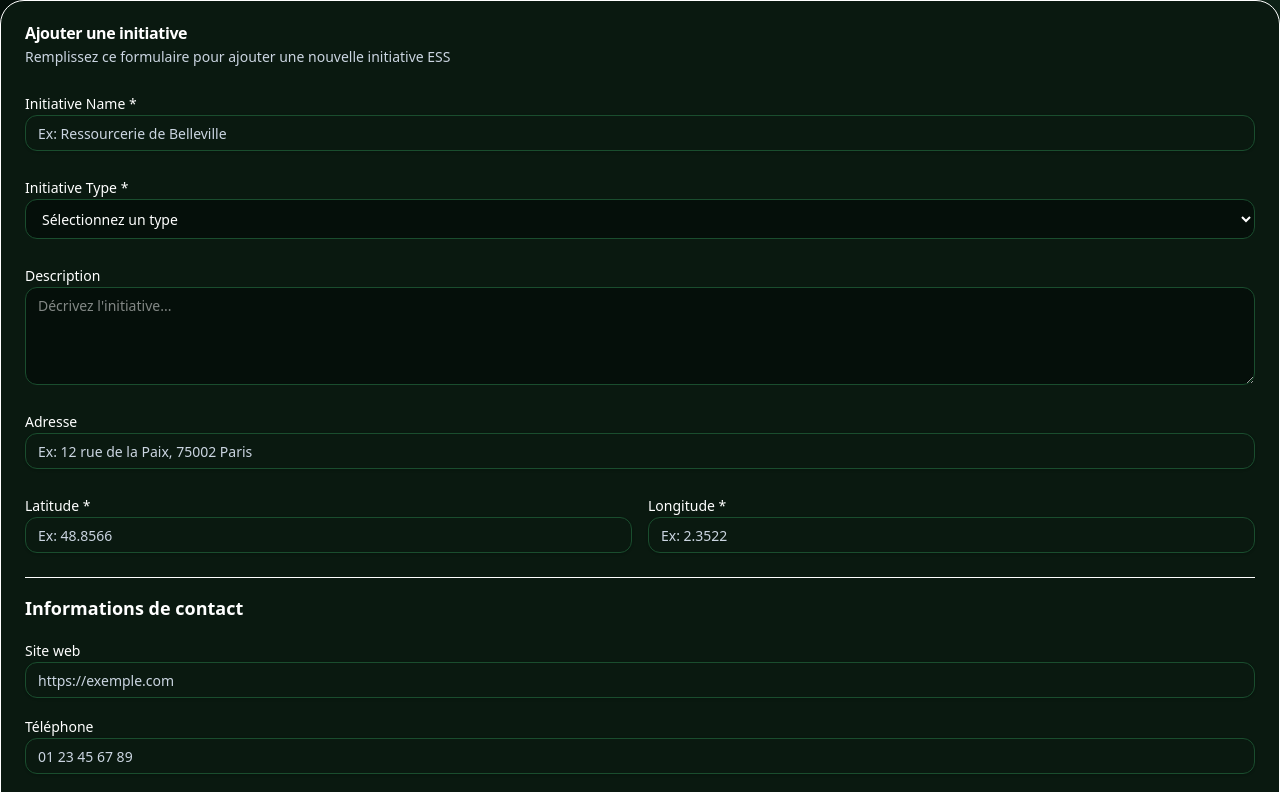
AddInitiativeForm › should display error message on submission failure
This screenshot has width=1280, height=792.
Note: Fill in required fields
Type "Test AMAP" into the field labelled "Initiative Name *" at (640, 133), box left=25, top=115, right=1255, bottom=151
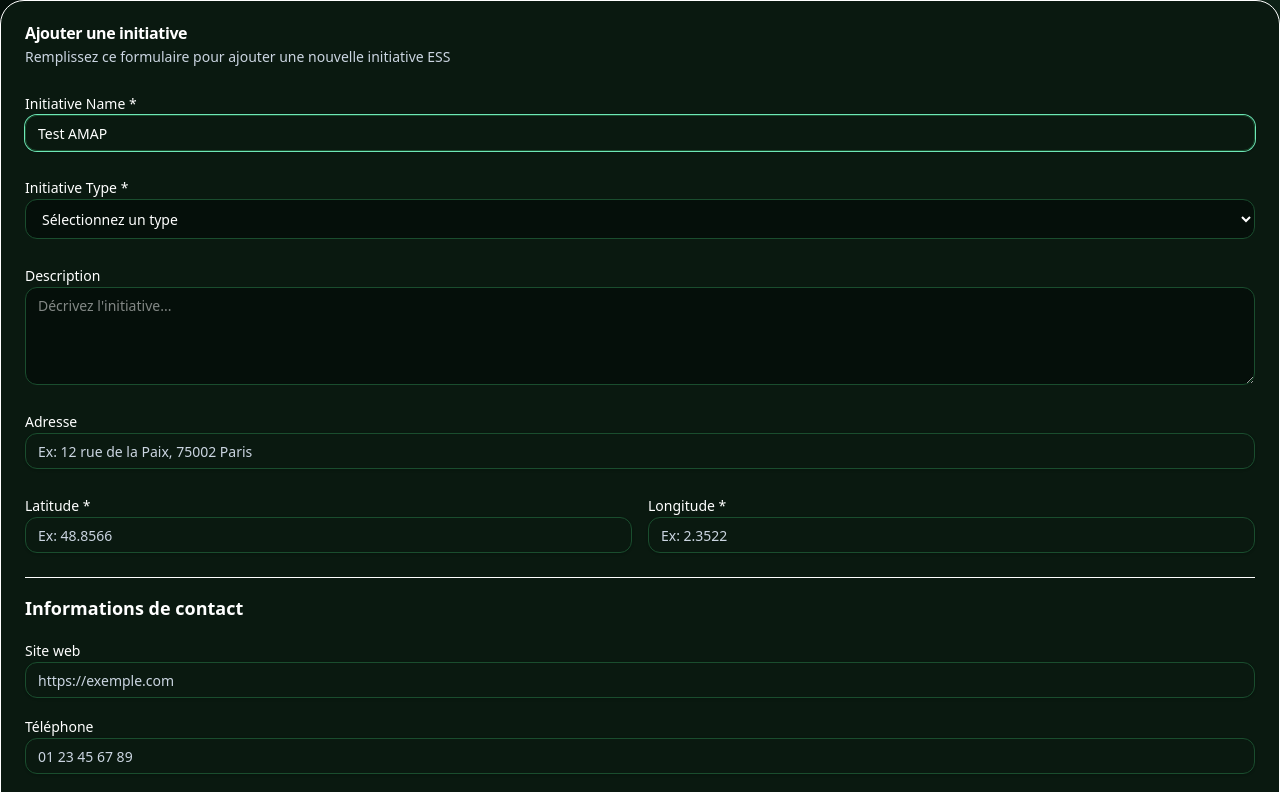
Select "AMAP" in the dropdown labelled "Initiative Type *" at (640, 219), box left=25, top=199, right=1255, bottom=239
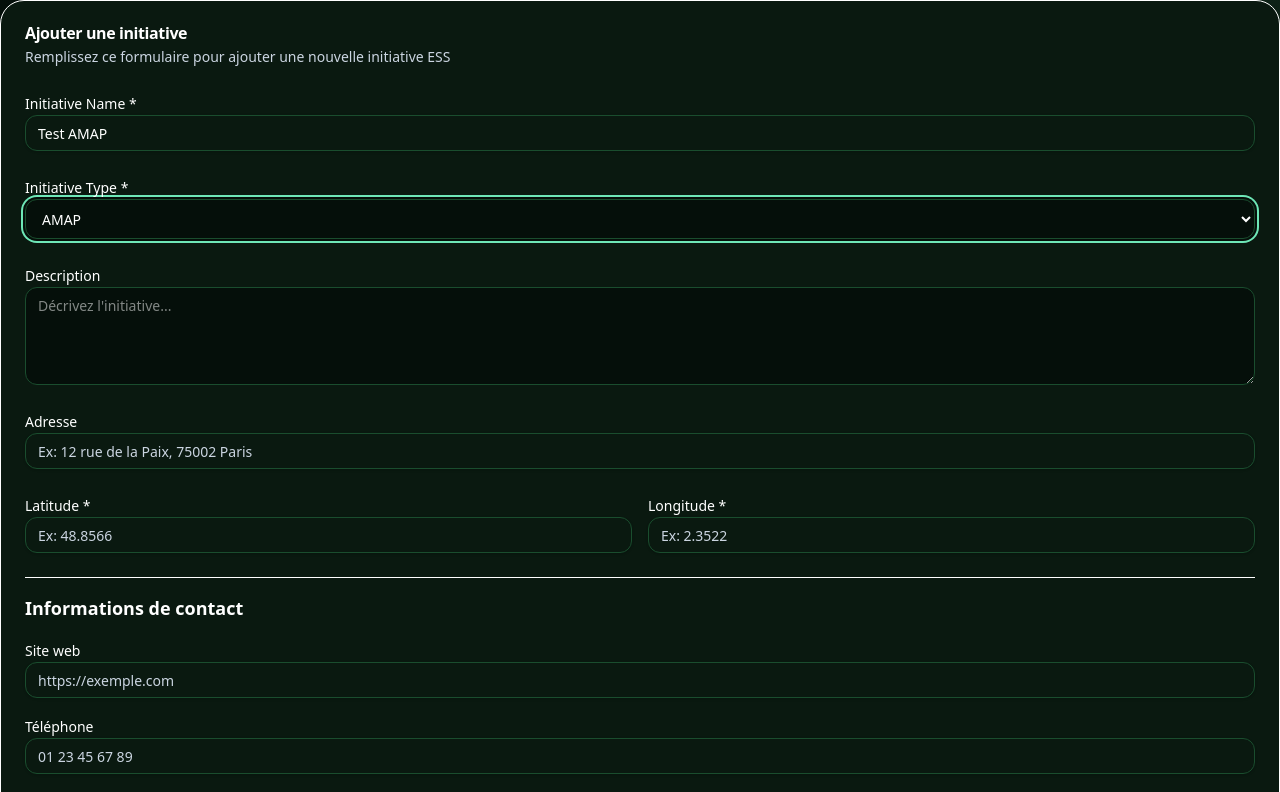
Type "48.8566" into the number field labelled "Latitude *" at (328, 535), box left=25, top=517, right=632, bottom=553
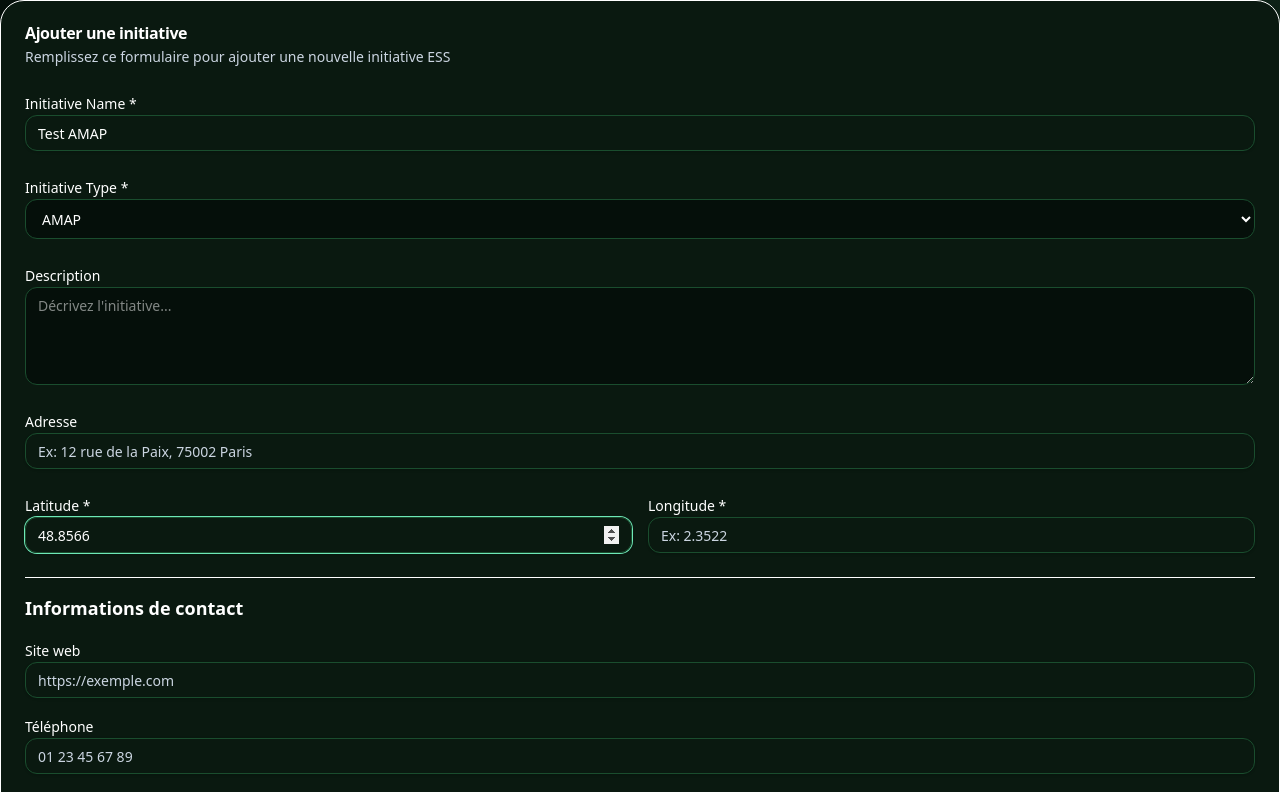
Type "2.3522" into the number field labelled "Longitude *" at (952, 535), box left=648, top=517, right=1255, bottom=553
(page scrolled)
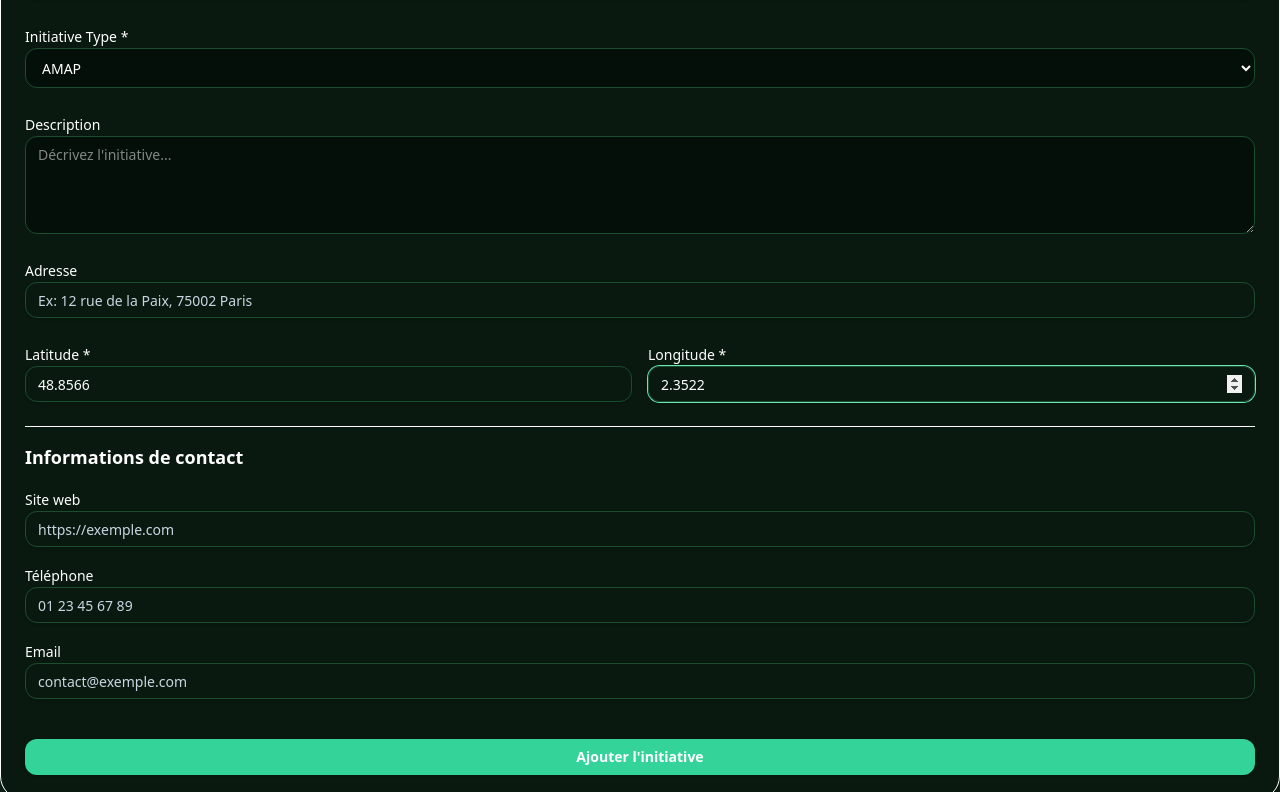
Click the button "Ajouter l'initiative" at (640, 757), box left=25, top=739, right=1255, bottom=775
(page scrolled)
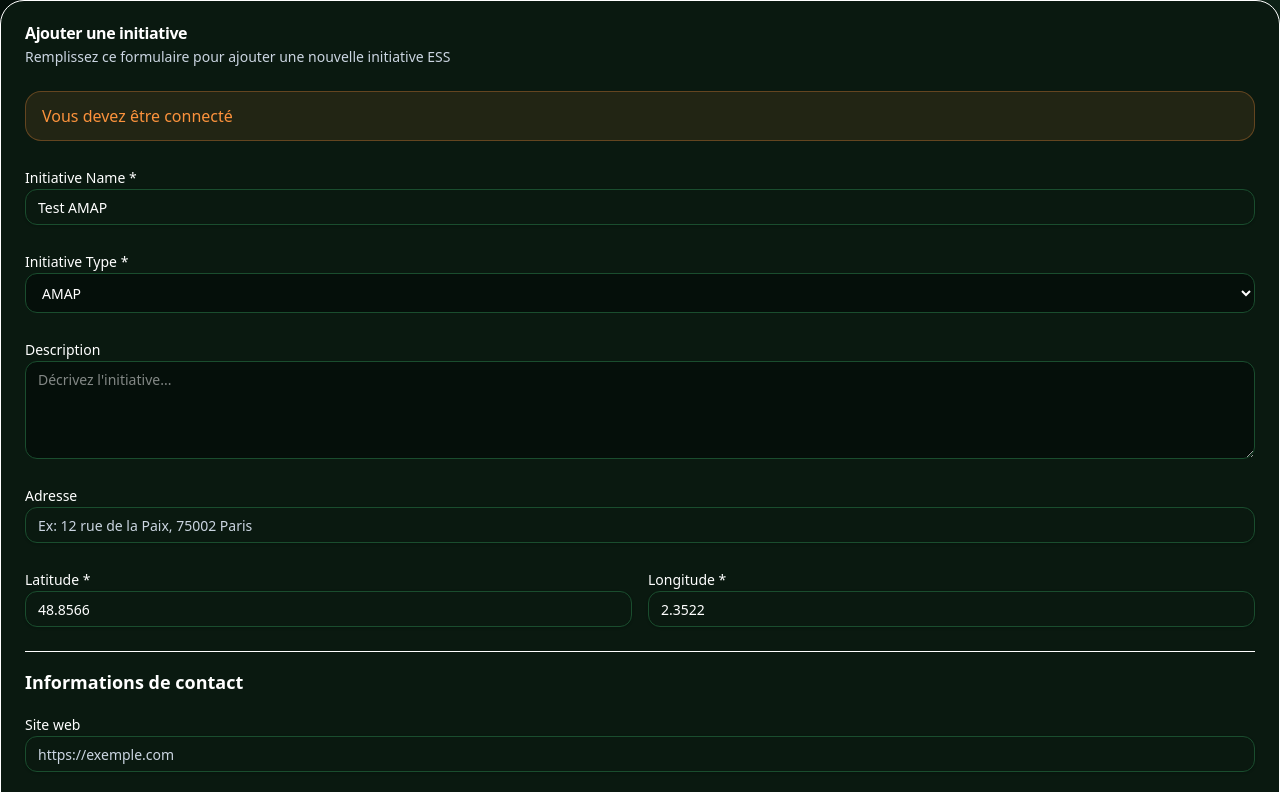
Expected: the text "Vous devez être connecté" is shown, left=25, top=91, right=1255, bottom=141
